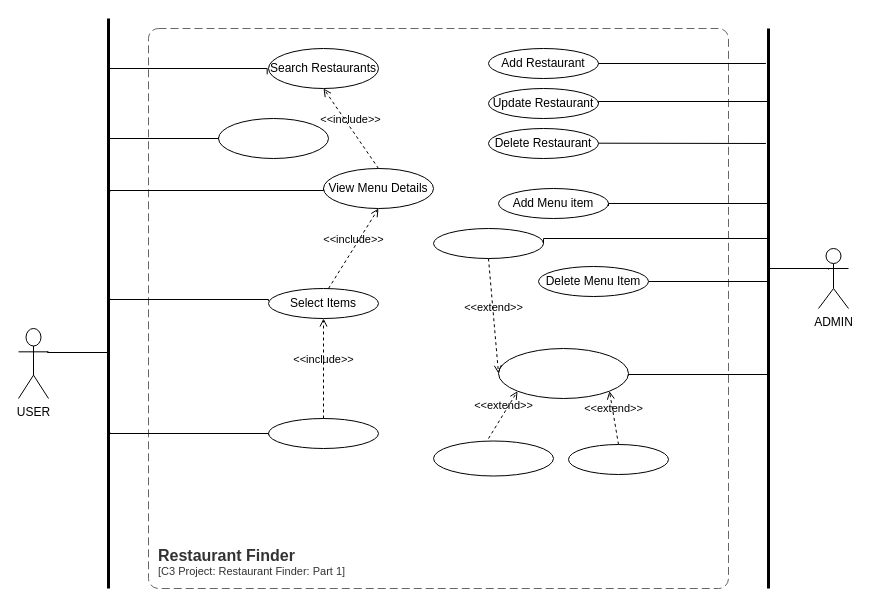
The diagram is 870 pixels wide and 608 high, and some of its shapes have lost their labels. Each missing label, with the centre of its shape:
Manage Restaurant Details: (x=563, y=373)
Update Location: (x=493, y=458)
Update Menu Item: (x=488, y=243)
Update Timing: (x=618, y=459)
View Restaurants: (x=273, y=138)
View Total Bill: (x=323, y=433)
